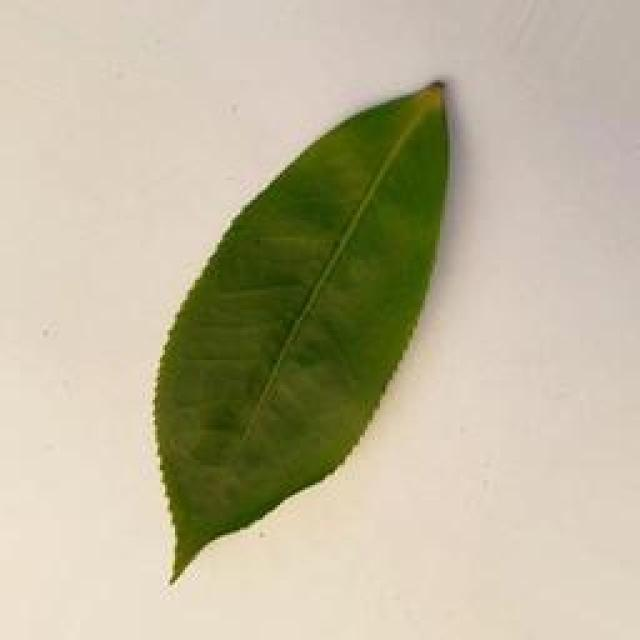Healthy: (142, 70, 460, 591)
